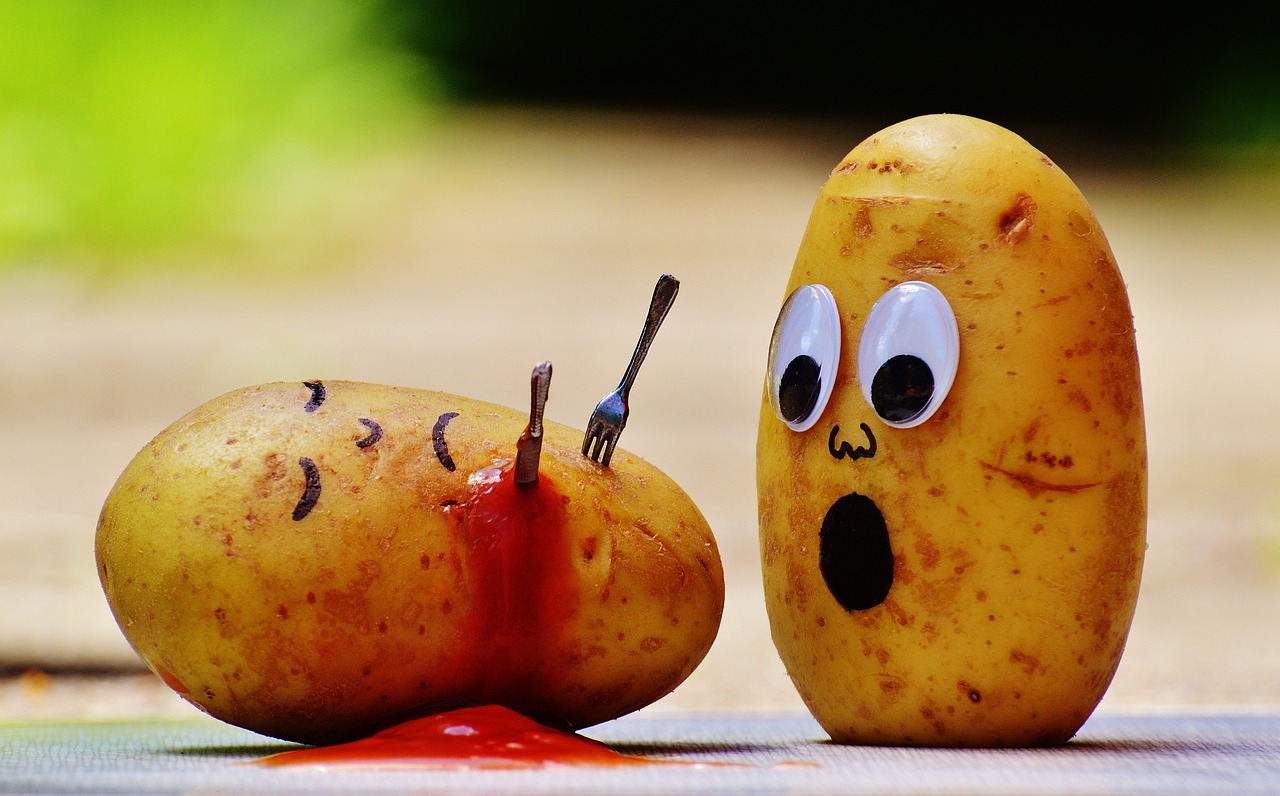knife: (509, 352, 550, 516)
